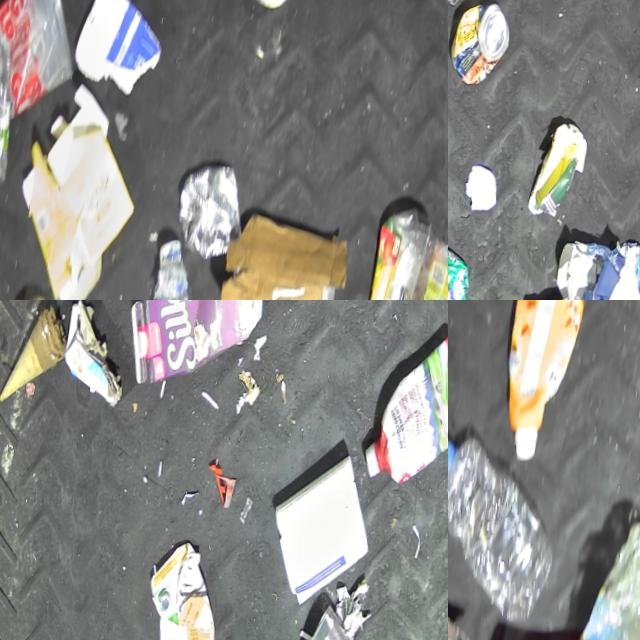can: (176, 164, 245, 263), (451, 4, 512, 89), (300, 604, 371, 640), (448, 250, 473, 300), (237, 0, 302, 17)
non_white_jug: (502, 300, 588, 466), (365, 335, 448, 489), (128, 300, 266, 387), (148, 538, 222, 640)
plastic_bottle: (448, 429, 560, 635), (360, 207, 448, 300), (577, 522, 640, 640), (144, 239, 212, 300)
